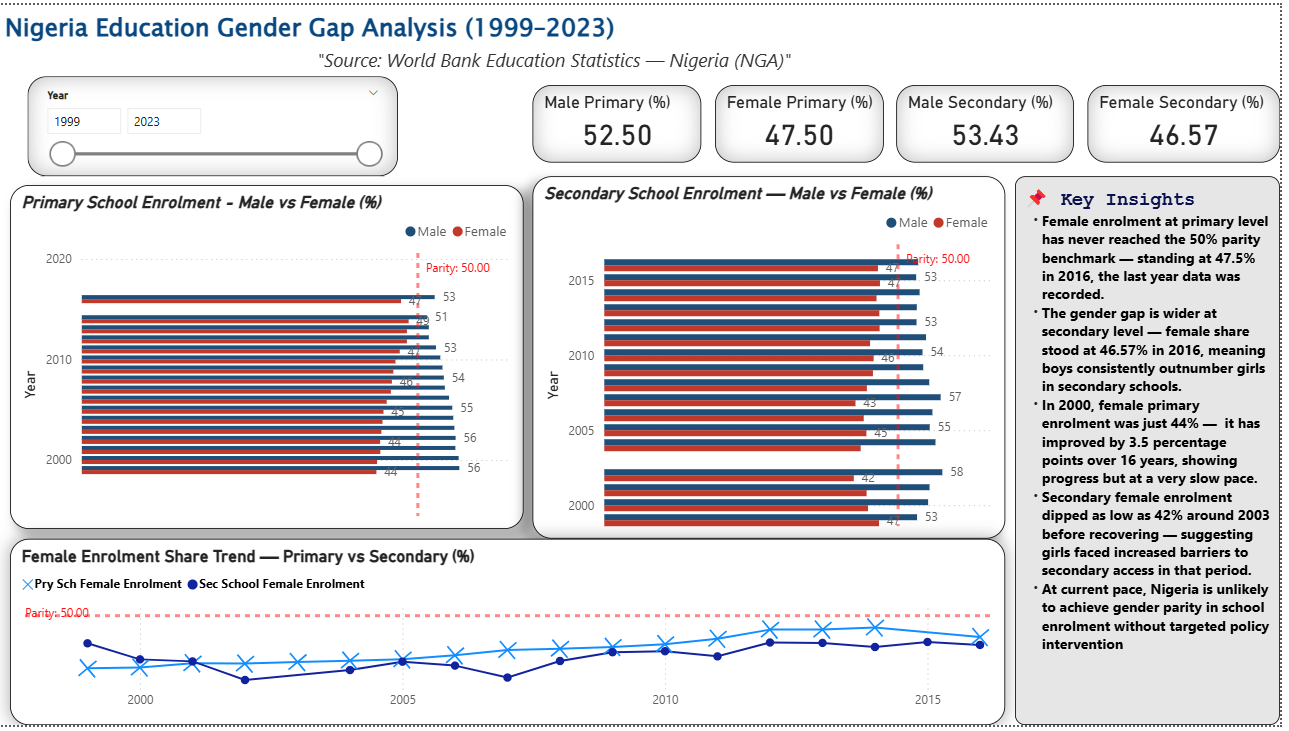

This screenshot's page, from the dashboard's own definition file:
{"tool":"powerbi","page":{"name":"Gender Gap Analysis","canvas":[1280,720],"ordinal":1},"visuals":[{"type":"textbox","box":[0,0,796.1,79.5],"z":0},{"type":"card","title":"Male Primary (%)","fields":{"Values":["PowerBI_Data.Latest Primary Male (%)"]},"box":[532.5,80,168.8,77.5],"z":1000},{"type":"card","title":"Female Primary (%)","fields":{"Values":["PowerBI_Data.Latest Primary Female (%)"]},"box":[714.6,80,168.8,77.5],"z":2000},{"type":"card","title":"Female Secondary (%)","fields":{"Values":["PowerBI_Data.Latest Secondary Female (%)"]},"box":[1087.5,80,192.5,77.5],"z":3000},{"type":"card","title":"Male Secondary (%)","fields":{"Values":["PowerBI_Data.Latest Secondary Male (%)"]},"box":[896.7,80,177.5,77.5],"z":4000},{"type":"clusteredBarChart","title":"Primary School Enrolment - Male vs Female (%)","fields":{"Category":["PowerBI_Data.Year"],"Y":["Avg(PowerBI_Data.Primary Male (%))","Avg(PowerBI_Data.Pry Female Enrolment (%))"]},"box":[10,180,513.8,343.8],"z":5000},{"type":"clusteredBarChart","title":"Secondary School Enrolment — Male vs Female (%)","fields":{"Category":["PowerBI_Data.Year"],"Y":["Avg(PowerBI_Data.Secondary Male (%))","Avg(PowerBI_Data.% Secondary Enrolment (Female))"]},"box":[532.5,171.2,472.5,362.5],"z":6000},{"type":"lineChart","title":"Female Enrolment Share Trend — Primary vs Secondary (%)","fields":{"Category":["PowerBI_Data.Year"],"Y":["Sum(PowerBI_Data.Pry Female Enrolment (%))","Sum(PowerBI_Data.% Secondary Enrolment (Female))"]},"box":[10,533.8,995,186.2],"z":7000},{"type":"slicer","fields":{"Values":["PowerBI_Data.Year"]},"box":[27.5,71.2,370,100],"z":8000},{"type":"textbox","box":[1015,171.2,265,548.8],"z":9000}]}

Visuals, with their boxes in screenshot pixels (x1, y1, x2, y2), scaled from the page's 1280x720 canvas onto the 1289x731 screenshot:
textbox: <box>0,0,802,81</box>
"Male Primary (%)" card: <box>536,81,706,160</box>
"Female Primary (%)" card: <box>720,81,890,160</box>
"Female Secondary (%)" card: <box>1095,81,1288,160</box>
"Male Secondary (%)" card: <box>903,81,1082,160</box>
"Primary School Enrolment - Male vs Female (%)" clusteredBarChart: <box>10,183,527,532</box>
"Secondary School Enrolment — Male vs Female (%)" clusteredBarChart: <box>536,174,1012,542</box>
"Female Enrolment Share Trend — Primary vs Secondary (%)" lineChart: <box>10,542,1012,730</box>
slicer - PowerBI_Data.Year: <box>28,72,400,174</box>
textbox: <box>1022,174,1288,730</box>
